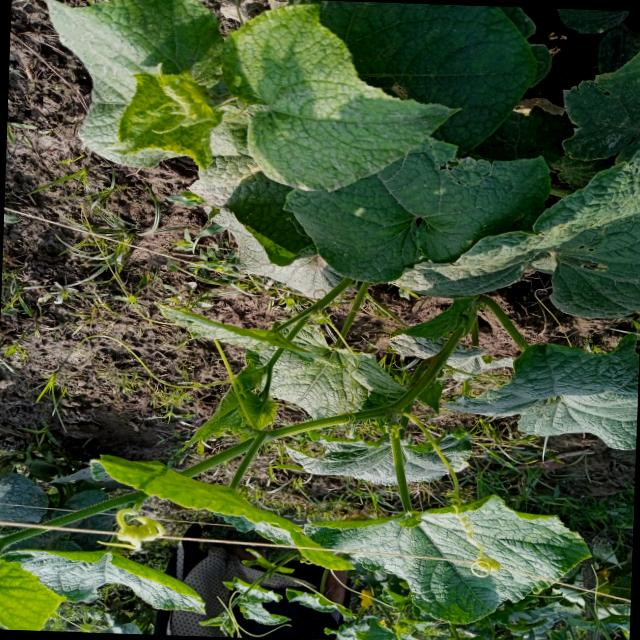cucumber_healthy: (274, 118, 562, 293), (223, 10, 467, 196), (322, 485, 597, 634), (530, 7, 640, 339), (40, 0, 243, 175), (448, 326, 640, 459), (115, 58, 230, 173), (0, 551, 68, 630)
